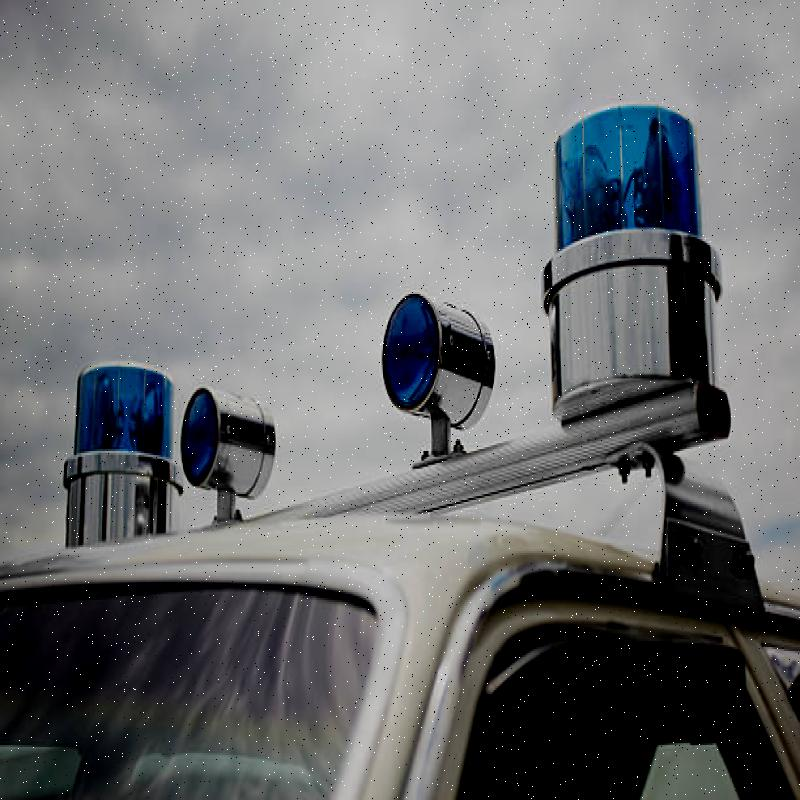AmbulanceSiren: (532, 106, 716, 404), (45, 337, 176, 591)
